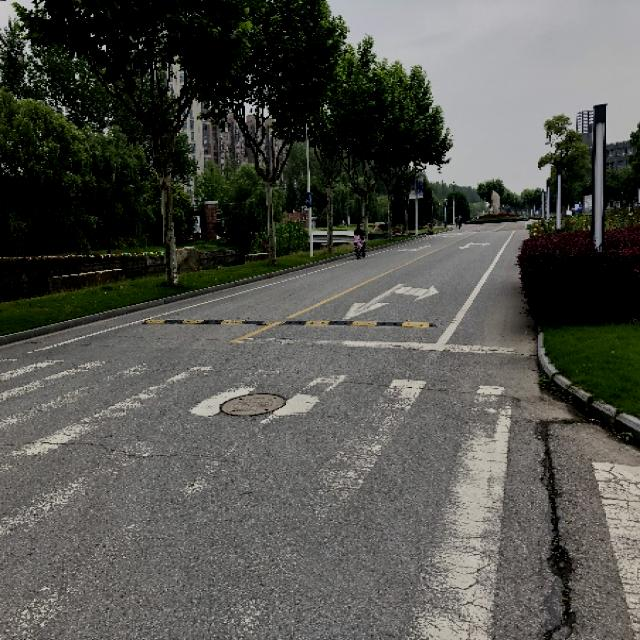Speed Bump: (140, 319, 438, 328)
